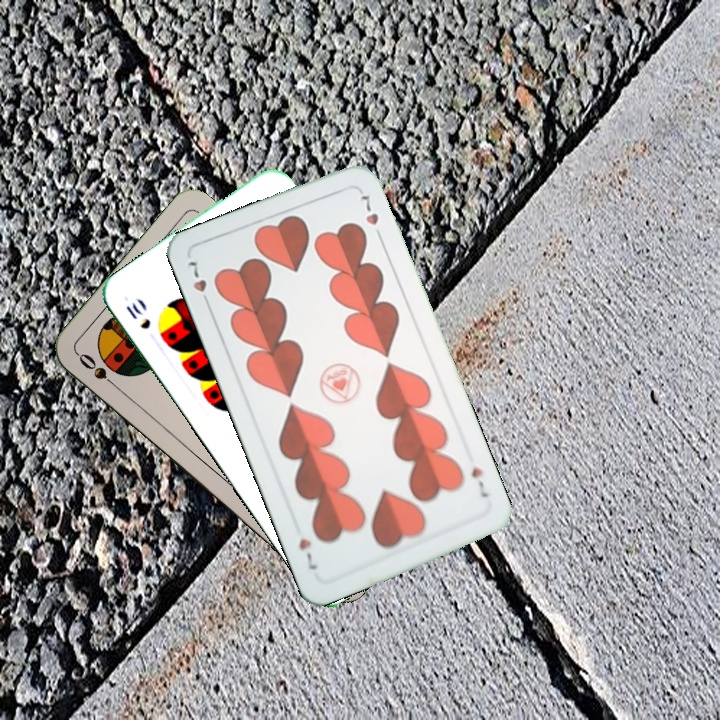H7: (183, 257, 214, 311), (467, 463, 491, 500)
S10: (122, 298, 153, 332)
SO: (74, 349, 123, 393)
